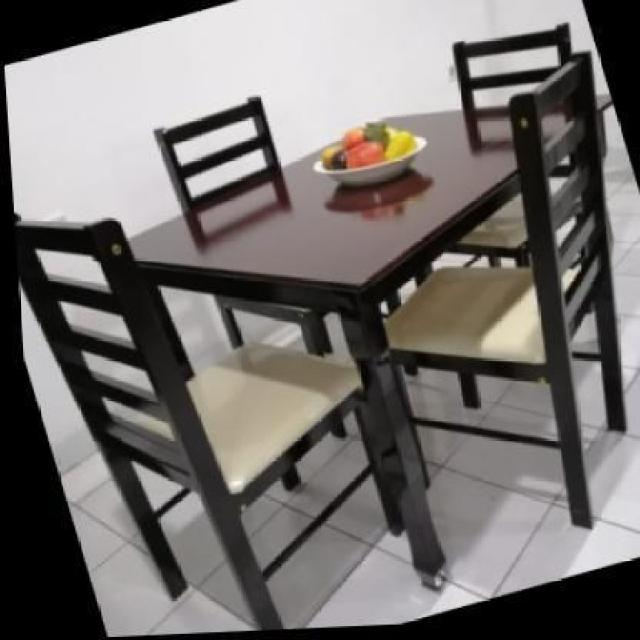tables: (117, 92, 612, 591)
